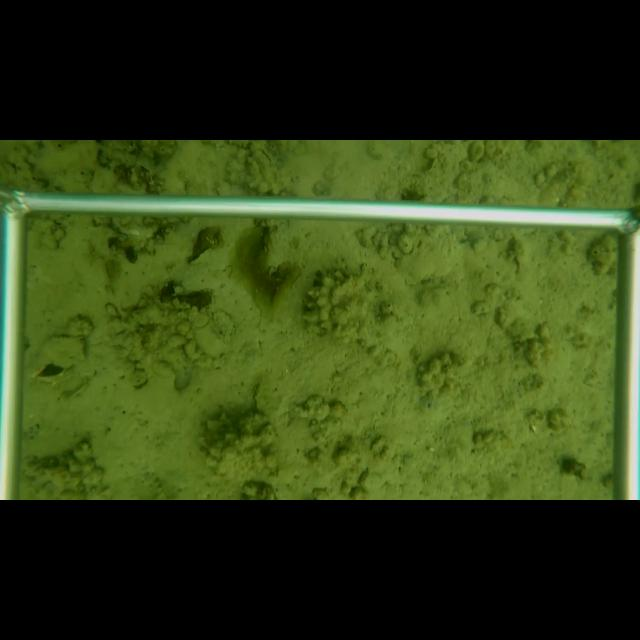Oyster-Open: (29, 358, 77, 385)
